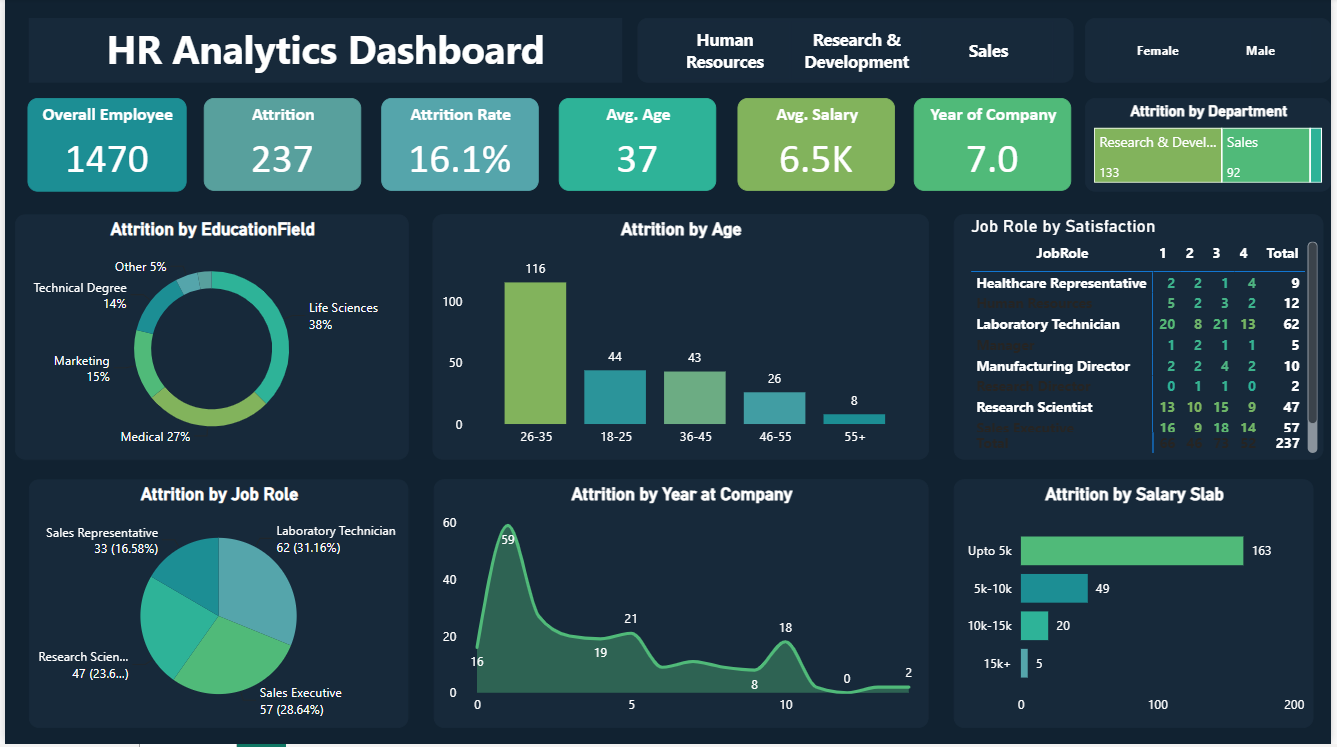

The page's visual inventory and layout, read from the dashboard file:
{"tool":"powerbi","page":{"name":"Report","canvas":[1280,720],"ordinal":0},"visuals":[{"type":"card","title":"Overall Employee","fields":{"Values":["CountNonNull(HR_Analytics.EmpID)"]},"box":[21.7,96.5,153.2,90.5],"z":0},{"type":"card","title":"Attrition","fields":{"Values":["Sum(HR_Analytics.Attrition_Count )"]},"box":[191.8,96.5,152,89.3],"z":1000},{"type":"card","title":"Attrition Rate","fields":{"Values":["Avg(HR_Analytics.Attrition_Rate)"]},"box":[363.1,96.5,152,89.3],"z":2000},{"type":"card","title":"Avg. Age","fields":{"Values":["Avg(HR_Analytics.Age)"]},"box":[534.5,96.5,152,89.3],"z":3000},{"type":"card","title":"Avg. Salary","fields":{"Values":["Avg(HR_Analytics.MonthlyIncome)"]},"box":[707,96.5,152,89.3],"z":4000},{"type":"card","title":"Year of Company","fields":{"Values":["Avg(HR_Analytics.YearsAtCompany)"]},"box":[877.1,96.5,152,89.3],"z":5000},{"type":"columnChart","title":"Attrition by Age","fields":{"Category":["HR_Analytics.AgeGroup"],"Y":["Sum(HR_Analytics.Attrition_Count )"]},"box":[412.6,208.7,479,236.5],"z":6000},{"type":"donutChart","title":"Attrition by EducationField","fields":{"Category":["HR_Analytics.EducationField"],"Y":["Sum(HR_Analytics.Attrition_Count )"]},"box":[9.7,208.7,380,236.5],"z":7000},{"type":"pivotTable","title":"Job Role by Satisfaction","fields":{"Columns":["HR_Analytics.JobSatisfaction"],"Rows":["HR_Analytics.JobRole"],"Values":["Sum(HR_Analytics.Attrition_Count )"]},"box":[915.7,208.7,357.1,236.5],"z":8000},{"type":"barChart","title":"Attrition by Salary Slab","fields":{"Category":["HR_Analytics.SalarySlab"],"Y":["Sum(HR_Analytics.Attrition_Count )"]},"box":[915.7,464.5,347.5,240.1],"z":9000},{"type":"pieChart","title":"Attrition by Job Role","fields":{"Category":["HR_Analytics.JobRole"],"Y":["Sum(HR_Analytics.Attrition_Count )"]},"box":[22.9,464.5,366.8,240.1],"z":10000},{"type":"areaChart","title":"Attrition by Year at Company","fields":{"Category":["HR_Analytics.YearsAtCompany"],"Y":["Sum(HR_Analytics.Attrition_Count )"]},"box":[413.8,464.5,477.8,240.1],"z":11000},{"type":"slicer","fields":{"Values":["HR_Analytics.Department"]},"box":[610.5,19.3,421,62.7],"z":12000},{"type":"textbox","box":[22.9,19.3,573.1,62.7],"z":13000},{"type":"slicer","fields":{"Values":["HR_Analytics.Gender"]},"box":[1042.4,19.3,237.7,62.7],"z":14000},{"type":"treemap","title":"Attrition by Department","fields":{"Group":["HR_Analytics.Department"],"Values":["Sum(HR_Analytics.Attrition_Count )"]},"box":[1042.4,96.5,237.7,90.5],"z":15000}]}

Visuals, with their boxes in screenshot pixels (x1, y1, x2, y2), scaled from the page's 1280x720 canvas onto the 1337x747 screenshot:
"Overall Employee" card: box=[23, 100, 183, 194]
"Attrition" card: box=[200, 100, 359, 193]
"Attrition Rate" card: box=[379, 100, 538, 193]
"Avg. Age" card: box=[558, 100, 717, 193]
"Avg. Salary" card: box=[738, 100, 897, 193]
"Year of Company" card: box=[916, 100, 1075, 193]
"Attrition by Age" columnChart: box=[431, 217, 931, 462]
"Attrition by EducationField" donutChart: box=[10, 217, 407, 462]
"Job Role by Satisfaction" pivotTable: box=[956, 217, 1329, 462]
"Attrition by Salary Slab" barChart: box=[956, 482, 1319, 731]
"Attrition by Job Role" pieChart: box=[24, 482, 407, 731]
"Attrition by Year at Company" areaChart: box=[432, 482, 931, 731]
slicer - HR_Analytics.Department: box=[638, 20, 1077, 85]
textbox: box=[24, 20, 623, 85]
slicer - HR_Analytics.Gender: box=[1089, 20, 1336, 85]
"Attrition by Department" treemap: box=[1089, 100, 1336, 194]
